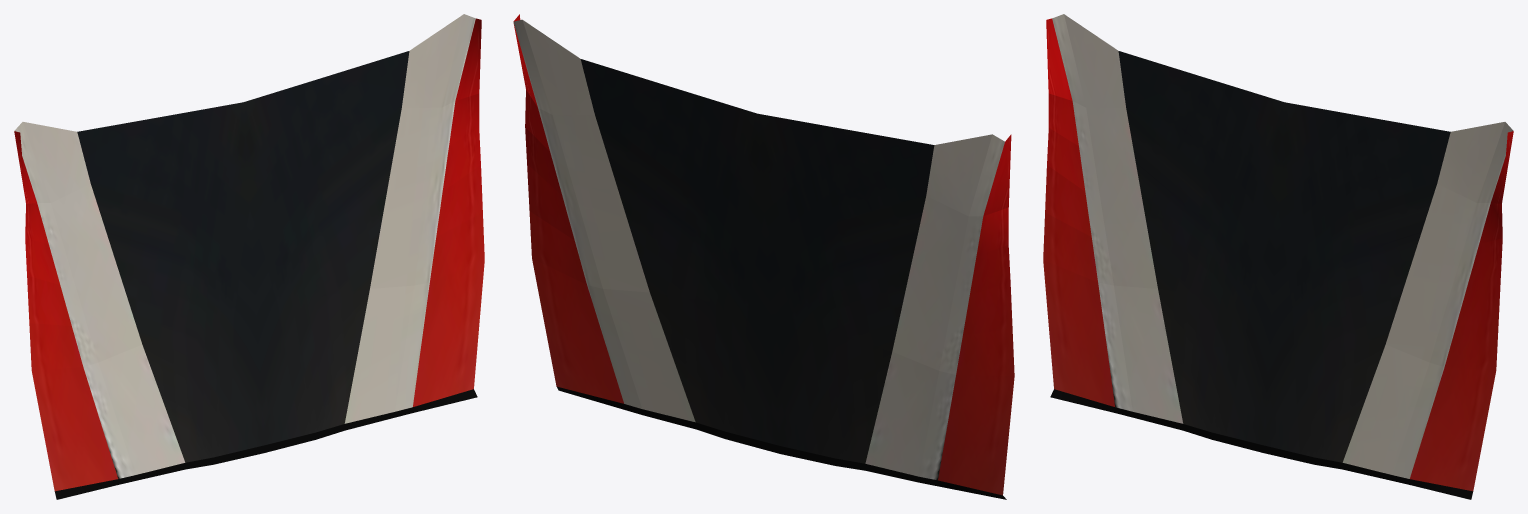
File: cofre_texturizado.dae
3 views of the same model, side by side, from view 1: azimuth 30°, elevation 25°; view 2: azimuth 150°, elevation 25°; view 3: azimuth 330°, elevation 25° (orthographic). The views are drawn at different scales.
Parts seen in each view (by area): view 1: Кузов.001; view 2: Кузов.001; view 3: Кузов.001.
Part boxes in pixels (left/top/right/bottom): Кузов.001: left=14, top=14, right=484, bottom=499; Кузов.001: left=513, top=14, right=1014, bottom=499; Кузов.001: left=1043, top=14, right=1513, bottom=499.
Bounding box in the file's own units: 2.13 × 0.191 × 1.63.
